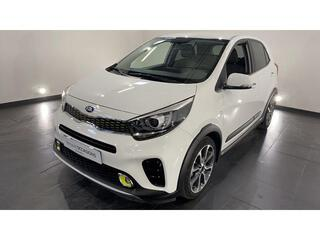car: (47, 32, 282, 204)
